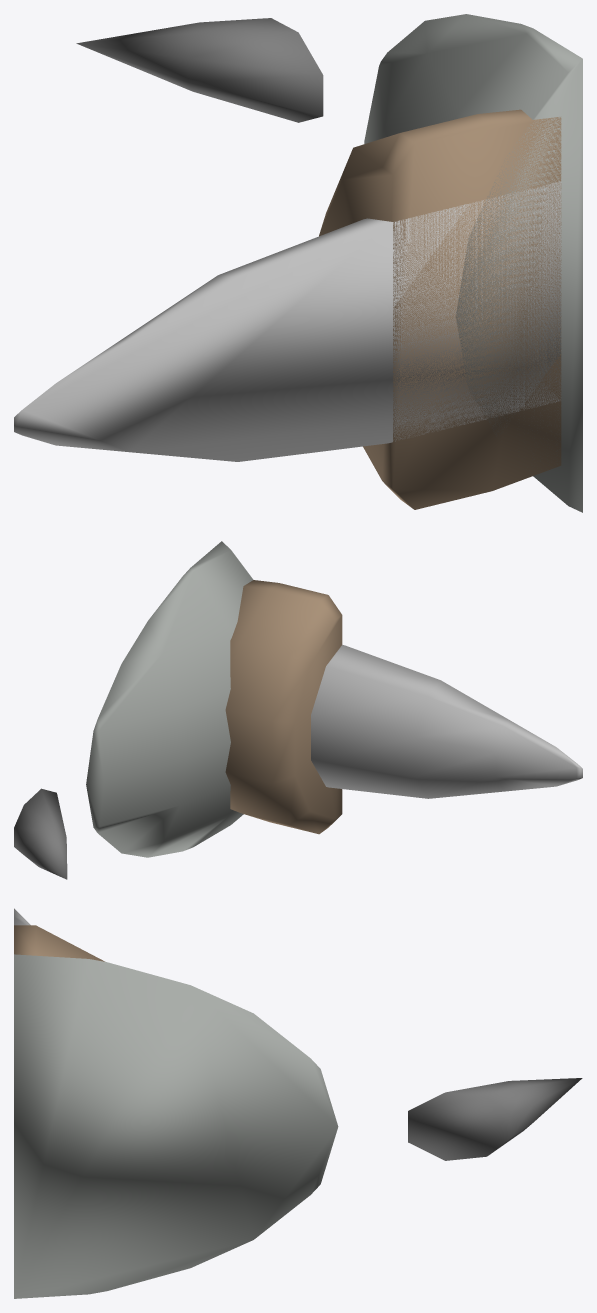
The model's file is newsha-77.glb.
3 views of the same model, one above another, from view 1: azimuth 30°, elevation 25°; view 2: azimuth 150°, elevation 25°; view 3: azimuth 270°, elevation 25° (orthographic). The views are drawn at different scales.
Visible parts, largest first — view 1: newsha-77; view 2: newsha-77; view 3: newsha-77.
Boxes of the visible parts, x1=… form: newsha-77: x1=14, y1=14, x2=582, y2=512; newsha-77: x1=14, y1=541, x2=582, y2=879; newsha-77: x1=14, y1=908, x2=582, y2=1298.
Size of the model in its own units: 1.1 by 0.8383 by 1.25.
